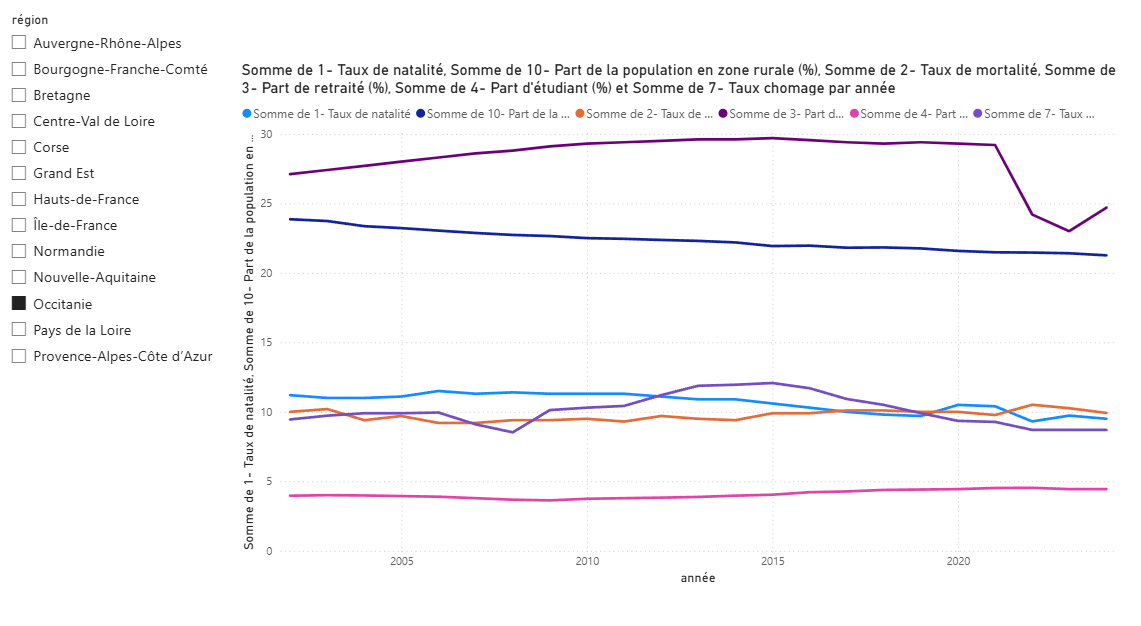

This screenshot's page, from the dashboard's own definition file:
{"tool":"powerbi","page":{"name":"Différents indicateurs démographique par région au fil des années","canvas":[1280,720],"ordinal":3},"visuals":[{"type":"lineChart","fields":{"Category":["Données élections.année"],"Y":["Sum(Données élections.1- Taux de natalité)","Sum(Données élections.10- Part de la population en zone rurale (%))","Sum(Données élections.2- Taux de mortalité)","Sum(Données élections.3- Part de retraité (%))","Sum(Données élections.4- Part d'étudiant (%))","Sum(Données élections.7- Taux chomage)"]},"box":[263.3,72.2,984.4,587.8],"z":0},{"type":"slicer","fields":{"Values":["Données élections.région"]},"box":[0,13.3,263.3,646.7],"z":1000}]}

Visuals, with their boxes in screenshot pixels (x1, y1, x2, y2), scaled from the page's 1280x720 canvas onto the 1141x626 screenshot:
lineChart - Données élections.année x Sum(Données élections.1- Taux de natalité): 235/63/1112/574
slicer - Données élections.région: 0/12/235/574
